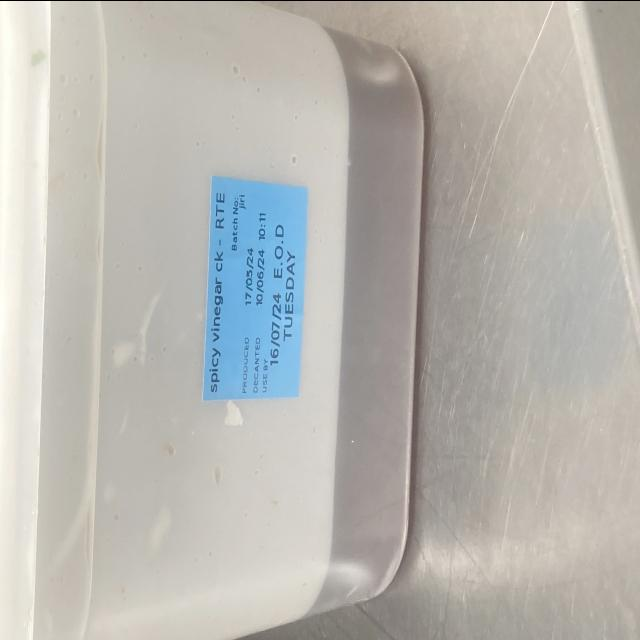product-labels: (203, 166, 314, 404)
